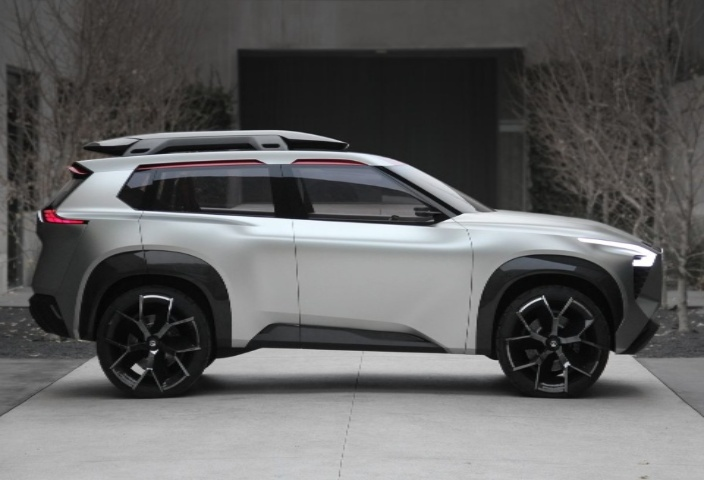camper: (27, 109, 677, 416)
